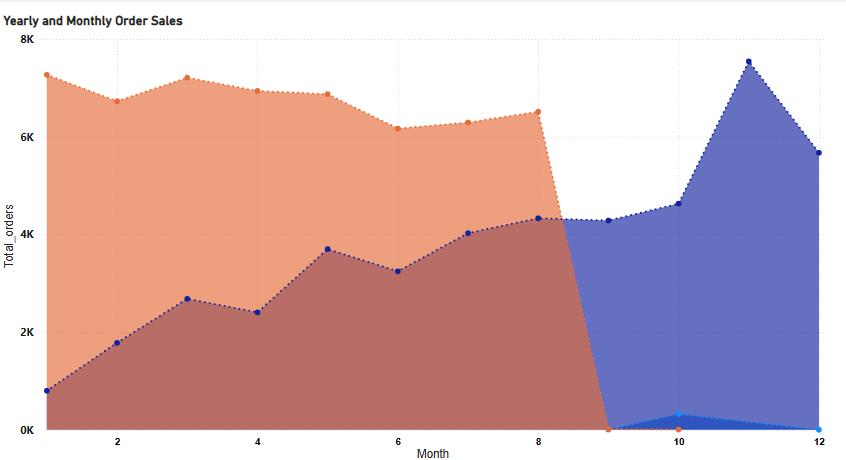

Layout of this report page (visuals, bound fields, positions):
{"tool":"powerbi","page":{"name":"Yearly and Monthly Order Sales","canvas":[1280,720],"ordinal":11},"visuals":[{"type":"areaChart","title":"Yearly and Monthly Order Sales","fields":{"Category":["total orders yearly and monthly.month"],"Y":["Sum(total orders yearly and monthly.total_orders)"],"Series":["total orders yearly and monthly.year"]},"box":[0,22.4,1238.3,673.7],"z":0}]}

Visuals, with their boxes on the page's 1280x720 design canvas (x1, y1, x2, y2). These are canvas units, not pixel positions in the 846x460 screenshot, which may show the page scaled, cropped or inside an application window:
"Yearly and Monthly Order Sales" areaChart: l=0, t=22, r=1238, b=696
